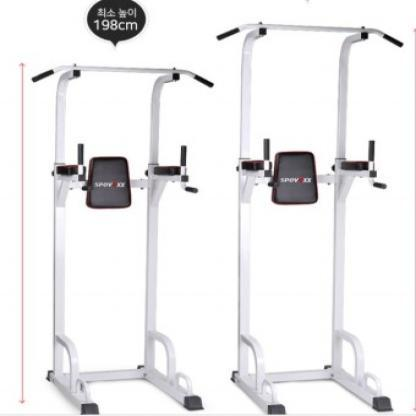chinning dipping: (218, 19, 404, 414)
